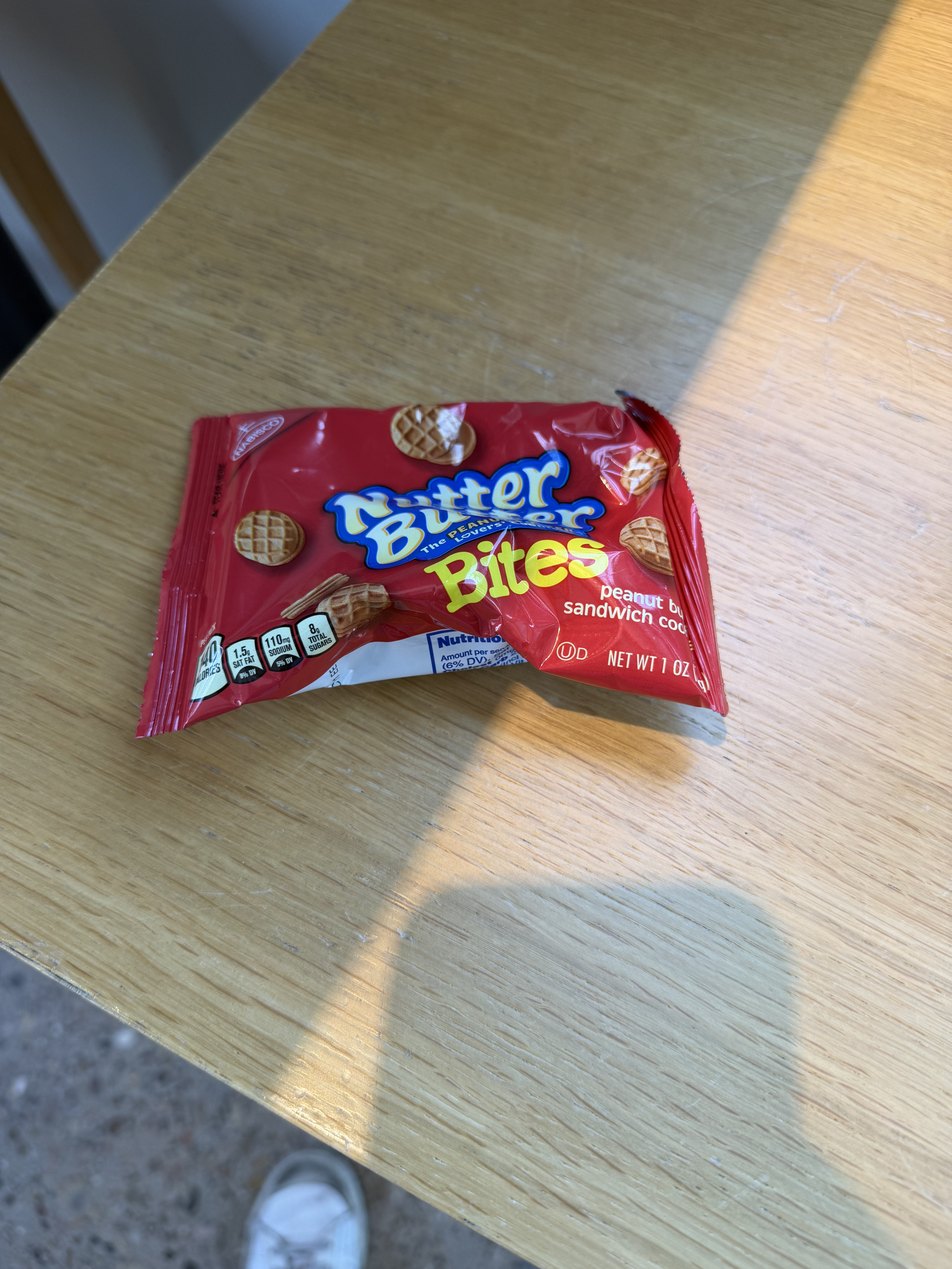nutter_butter: (157, 383, 748, 744)
